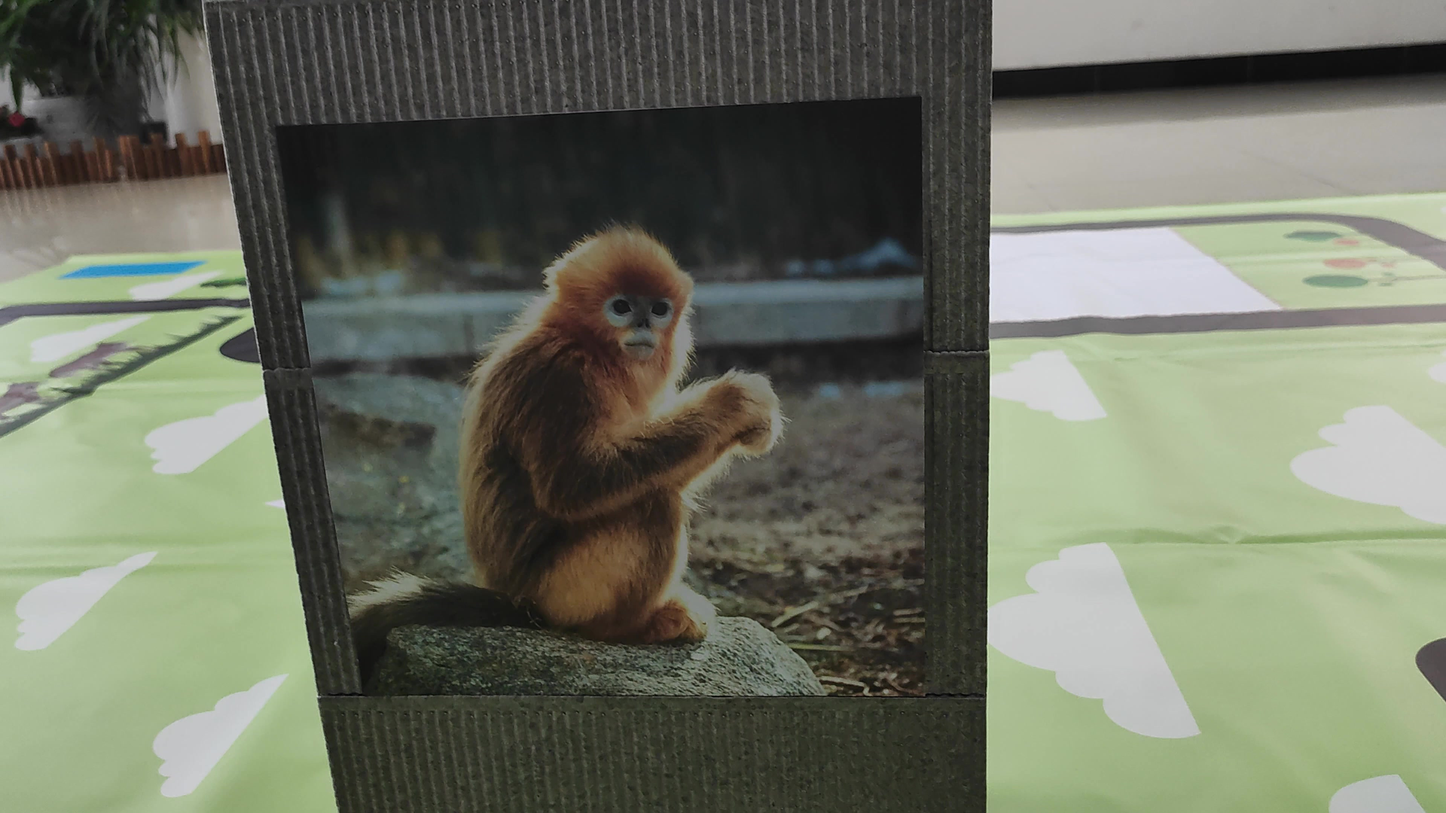monkey: (366, 201, 832, 684)
